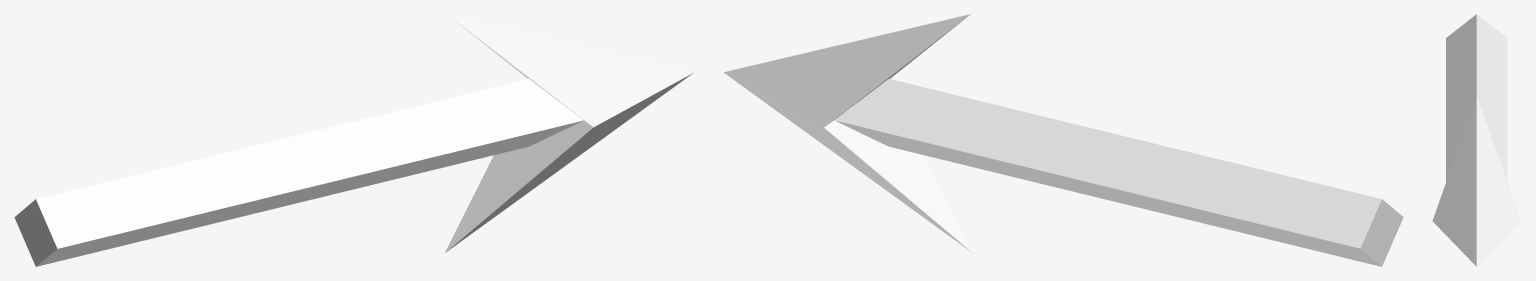
The model's file is arrow_overlay.obj.
The picture shows the model from 3 angles, left to right: view 1: azimuth 30°, elevation 25°; view 2: azimuth 150°, elevation 25°; view 3: azimuth 270°, elevation 25°; orthographic projection. The views are drawn at different scales.
Parts seen in each view (by area): view 1: Cube.001; view 2: Cube.001; view 3: Cube.001.
Boxes of the visible parts, <box> form: Cube.001: <box>14,14,693,266</box>; Cube.001: <box>724,14,1403,266</box>; Cube.001: <box>1432,14,1521,266</box>.
Size of the model in its own units: 1.04 by 0.3601 by 0.1712.
